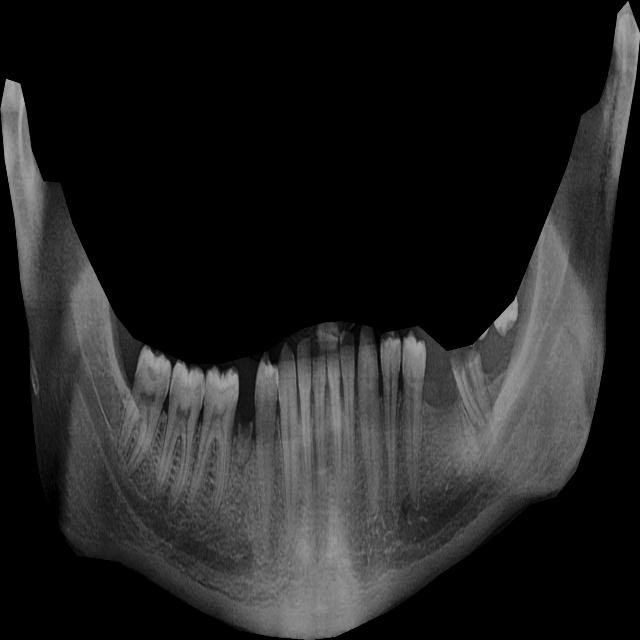mandibula: (0, 1, 640, 640)
